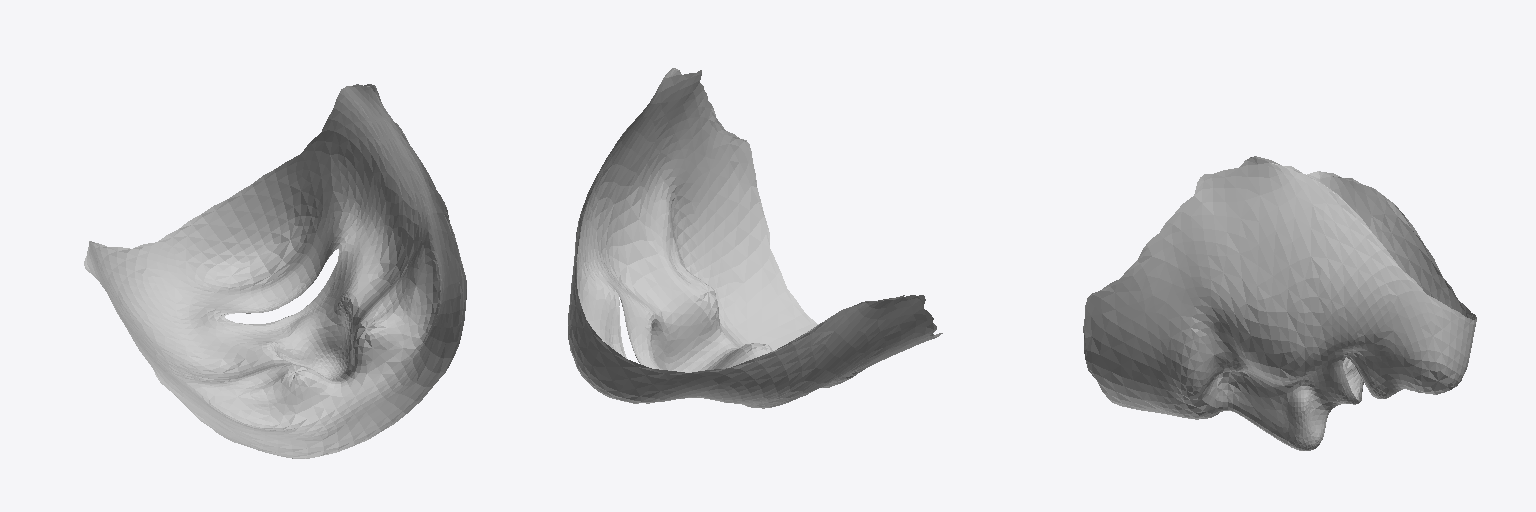
The model's file is face_gab_sfm109.obj.
3 renders of one model, left to right at view 1: azimuth 30°, elevation 25°; view 2: azimuth 150°, elevation 25°; view 3: azimuth 270°, elevation 25°, orthographic.
Size of the model in its own units: 167 by 160 by 188.